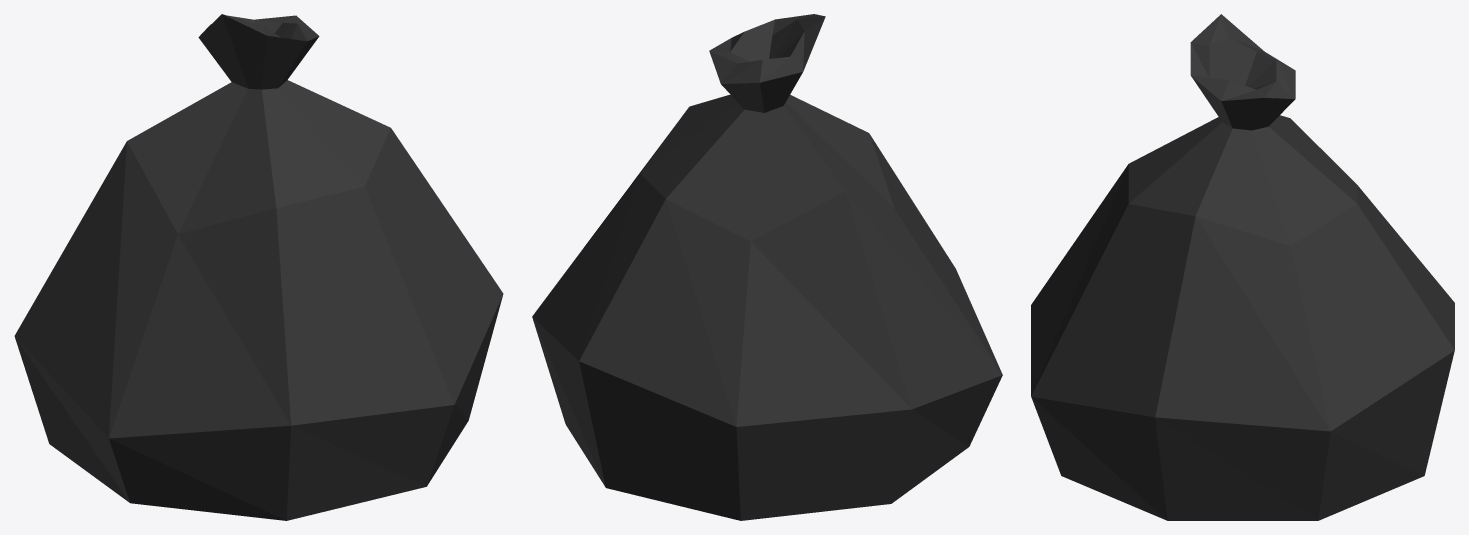
Rendered from Waste_01.FBX.
The picture shows the model from 3 angles, left to right: view 1: azimuth 30°, elevation 25°; view 2: azimuth 150°, elevation 25°; view 3: azimuth 270°, elevation 25°; orthographic projection. The views are drawn at different scales.
Visible parts, largest first — view 1: Waste_01; view 2: Waste_01; view 3: Waste_01.
Boxes of the visible parts, bbox=[...] form: Waste_01: bbox=[14, 14, 503, 520]; Waste_01: bbox=[532, 14, 1002, 520]; Waste_01: bbox=[1031, 14, 1454, 520].
Bounding box in the file's own units: 0.5543 × 0.6325 × 0.5543.
